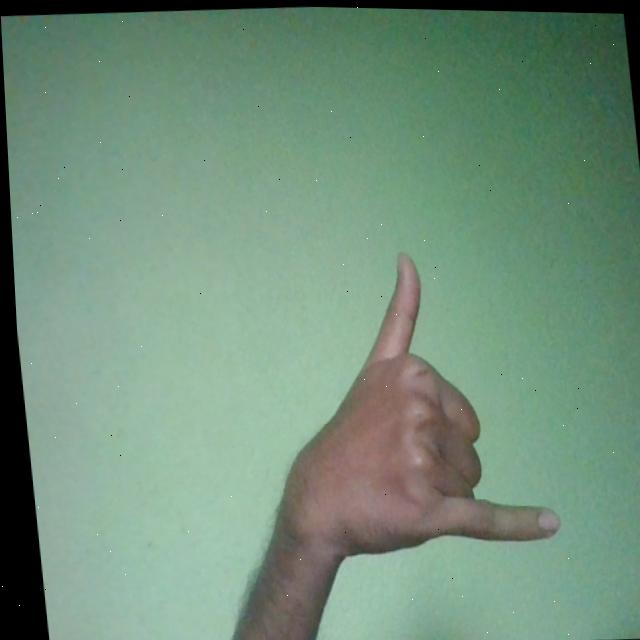Call Me: (241, 239, 560, 564)
